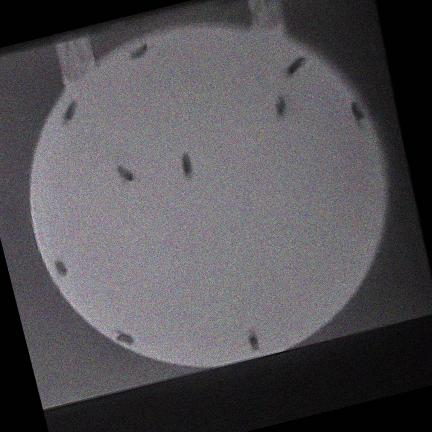fly: (284, 57, 306, 78), (117, 166, 137, 183), (352, 102, 365, 127), (63, 101, 77, 123), (130, 44, 149, 60), (182, 153, 193, 180), (275, 96, 287, 120), (116, 330, 134, 345), (54, 260, 68, 277), (248, 332, 259, 351)
